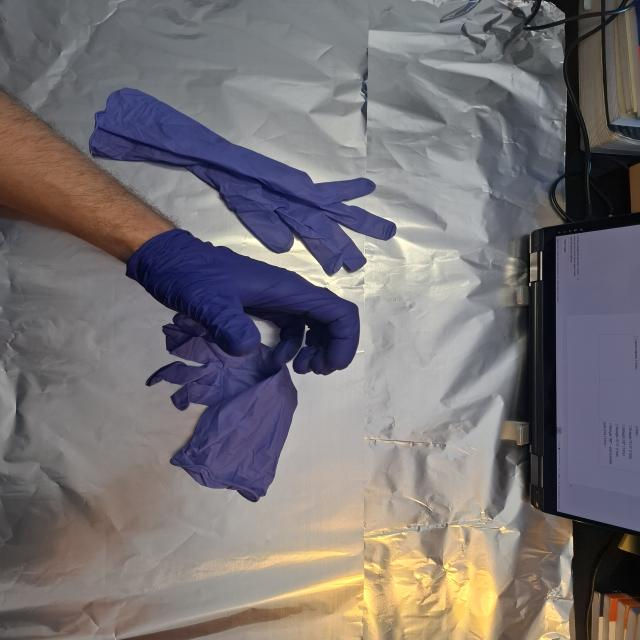glove_on: (121, 228, 363, 378)
